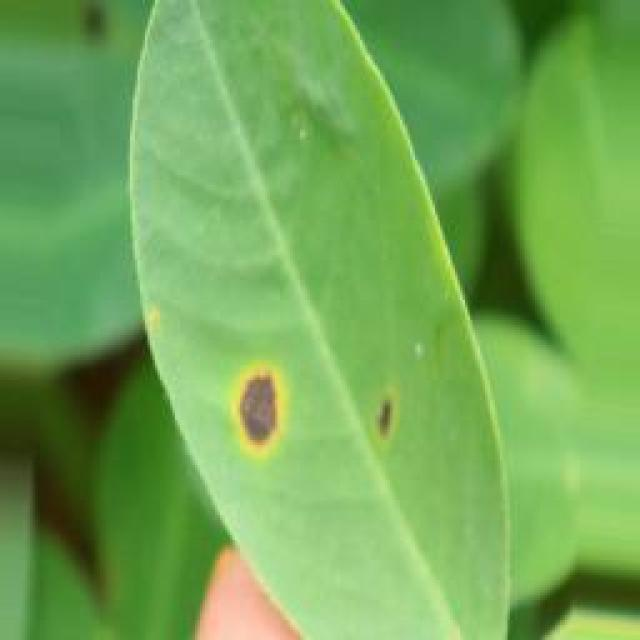Sigatoka: (210, 337, 312, 486), (330, 354, 417, 477)
